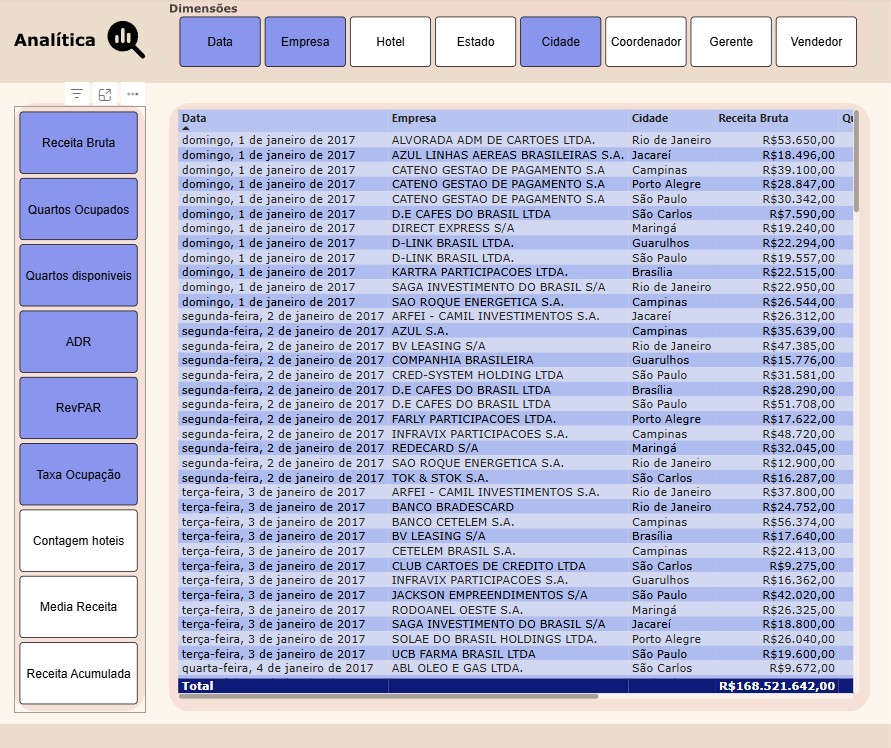

The dashboard page shown, as its layout file describes it:
{"tool":"powerbi","page":{"name":"Tabela Analítica","canvas":[1280,1080],"ordinal":1},"visuals":[{"type":"tableEx","fields":{"Values":["D_data.Data","D_empresa.Empresa","D_hotel.Cidade","Medidas.Receita Bruta","Medidas.QTD_de_quartos_ocu.","Medidas.Quartos disponiveis","Medidas.Receita_media_por_quarto_ocu.","Medidas.Receita média dos quartos dispon","Medidas.Taxa Ocupação"]},"box":[251.9,156.4,987.4,855.4],"z":1000},{"type":"ChicletSlicer1448559807354","fields":{"Category":["Parametros Dimensões.Dimensões"]},"box":[251.7,20,1015,91.7],"z":2000},{"type":"ChicletSlicer1448559807354","fields":{"Category":["Parametros Medidas.Medidas"]},"box":[22.3,156.4,189,869.6],"z":3000}]}

Visuals, with their boxes on the page's 1280x1080 design canvas (x1, y1, x2, y2). These are canvas units, not pixel positions in the 891x748 screenshot, which may show the page scaled, cropped or inside an application window:
tableEx - D_data.Data x D_empresa.Empresa: BBox(252, 156, 1239, 1012)
ChicletSlicer1448559807354 - Parametros Dimensões.Dimensões: BBox(252, 20, 1267, 112)
ChicletSlicer1448559807354 - Parametros Medidas.Medidas: BBox(22, 156, 211, 1026)
